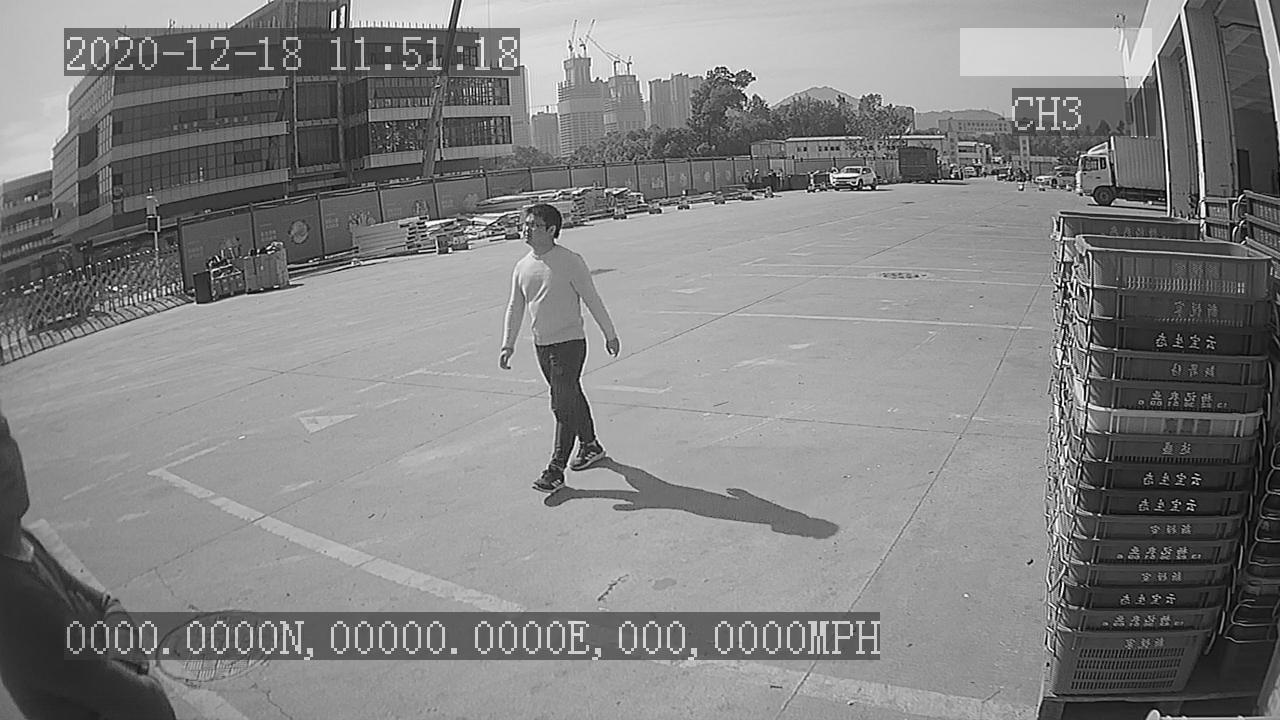person: (490, 197, 627, 502)
